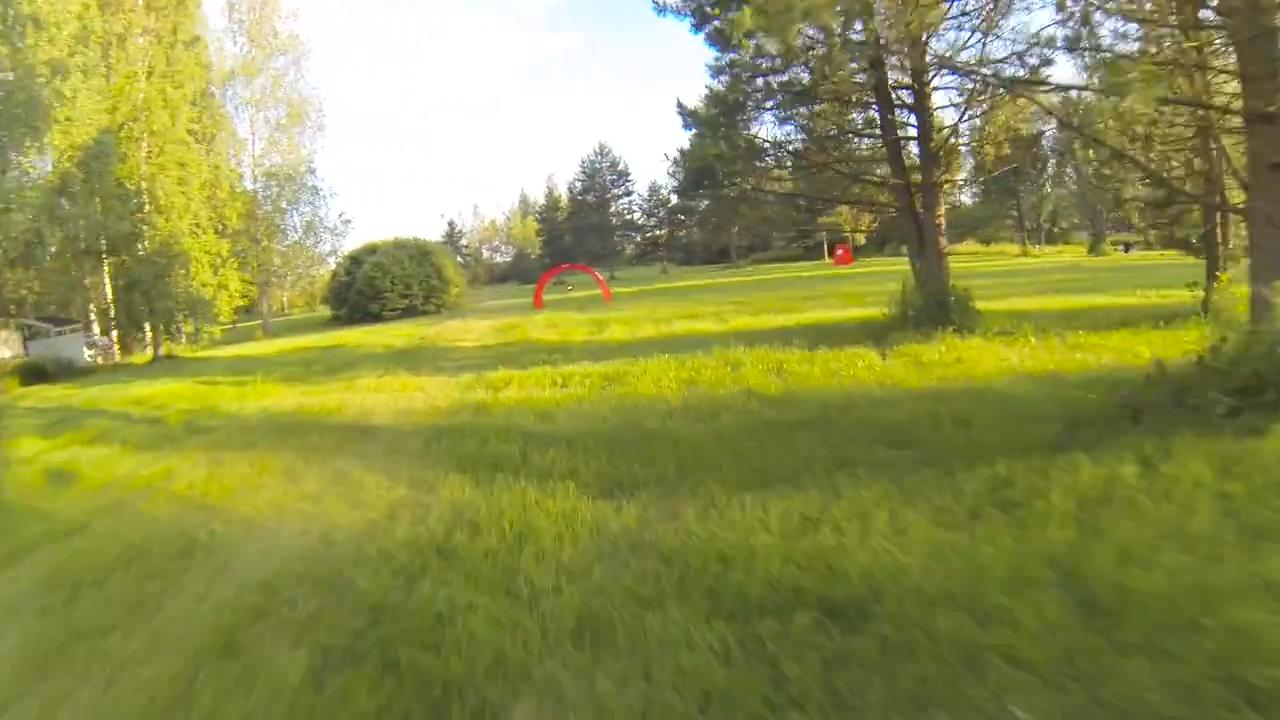gate: (533, 262, 611, 310)
